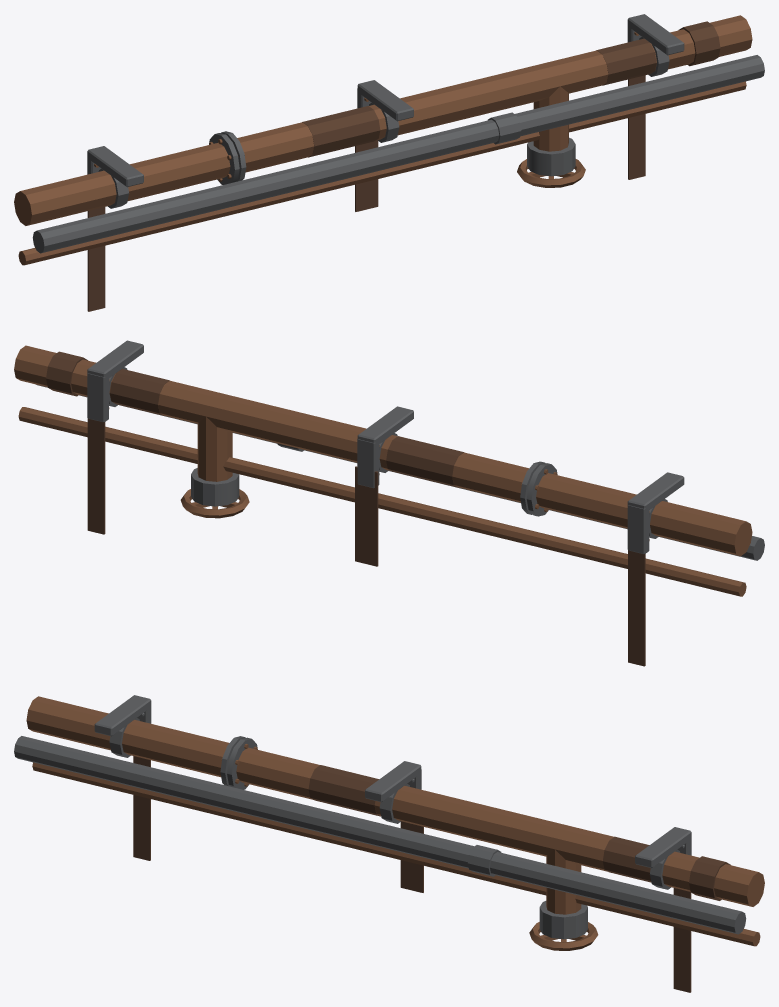
The model's file is Pipes.fbx.
3 views of the same model, one above another, from view 1: azimuth 30°, elevation 25°; view 2: azimuth 150°, elevation 25°; view 3: azimuth 330°, elevation 25° (orthographic).
Visible parts, largest first — view 1: Pipes; view 2: Pipes; view 3: Pipes.
Boxes of the visible parts, left/top/right/bottom form: Pipes: left=14, top=14, right=764, bottom=311; Pipes: left=14, top=340, right=764, bottom=666; Pipes: left=14, top=695, right=764, bottom=992.
Size of the model in its own units: 240 by 51.5 by 23.1.
